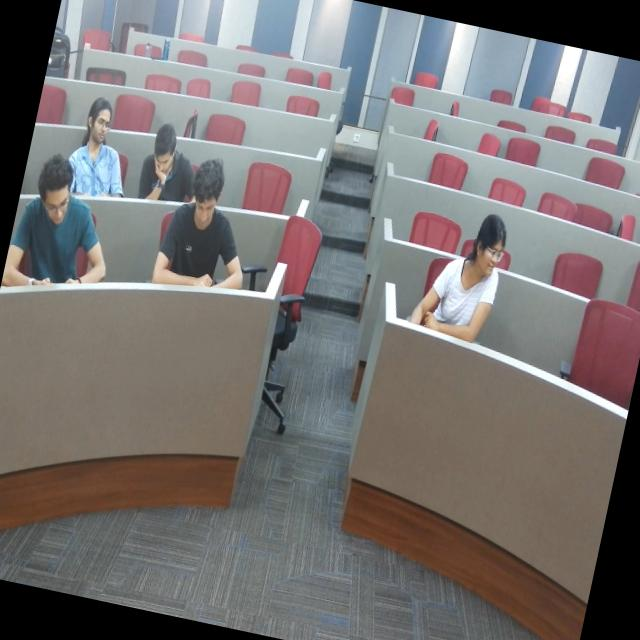cheating: (413, 193, 536, 349)
